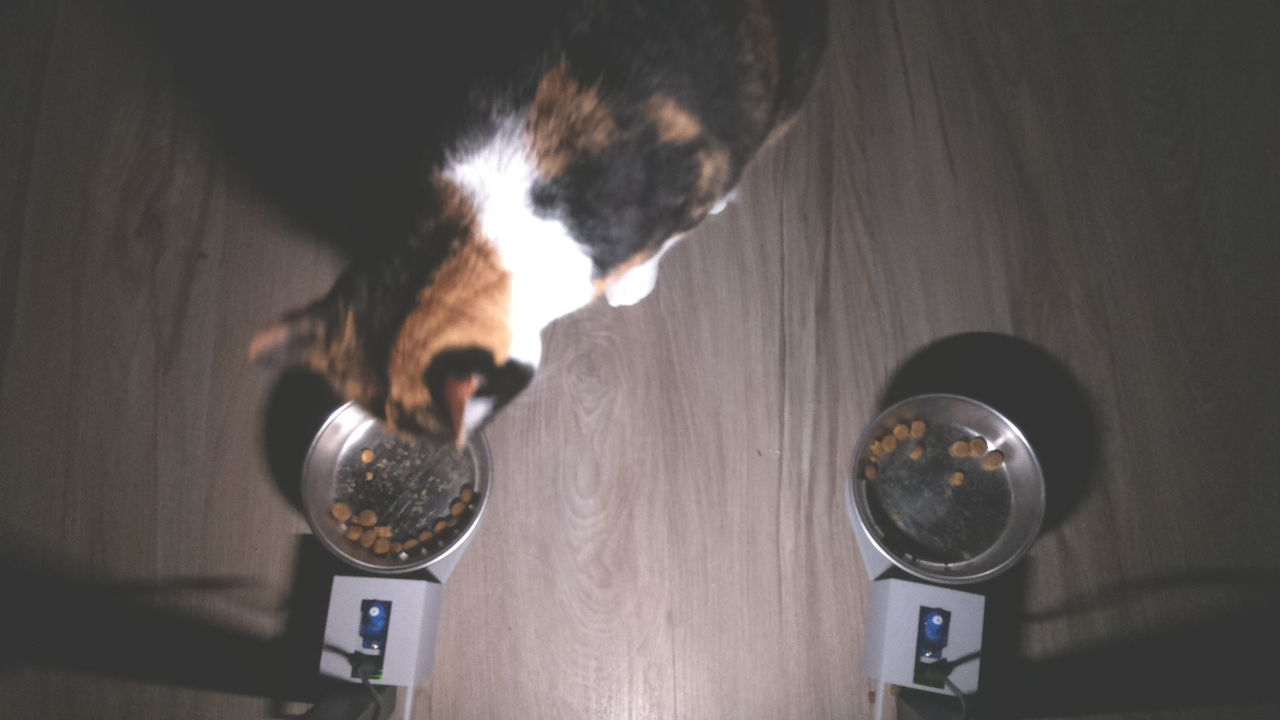bella: (249, 223, 555, 437)
open_bowl: (852, 389, 1052, 592), (311, 412, 489, 570)
